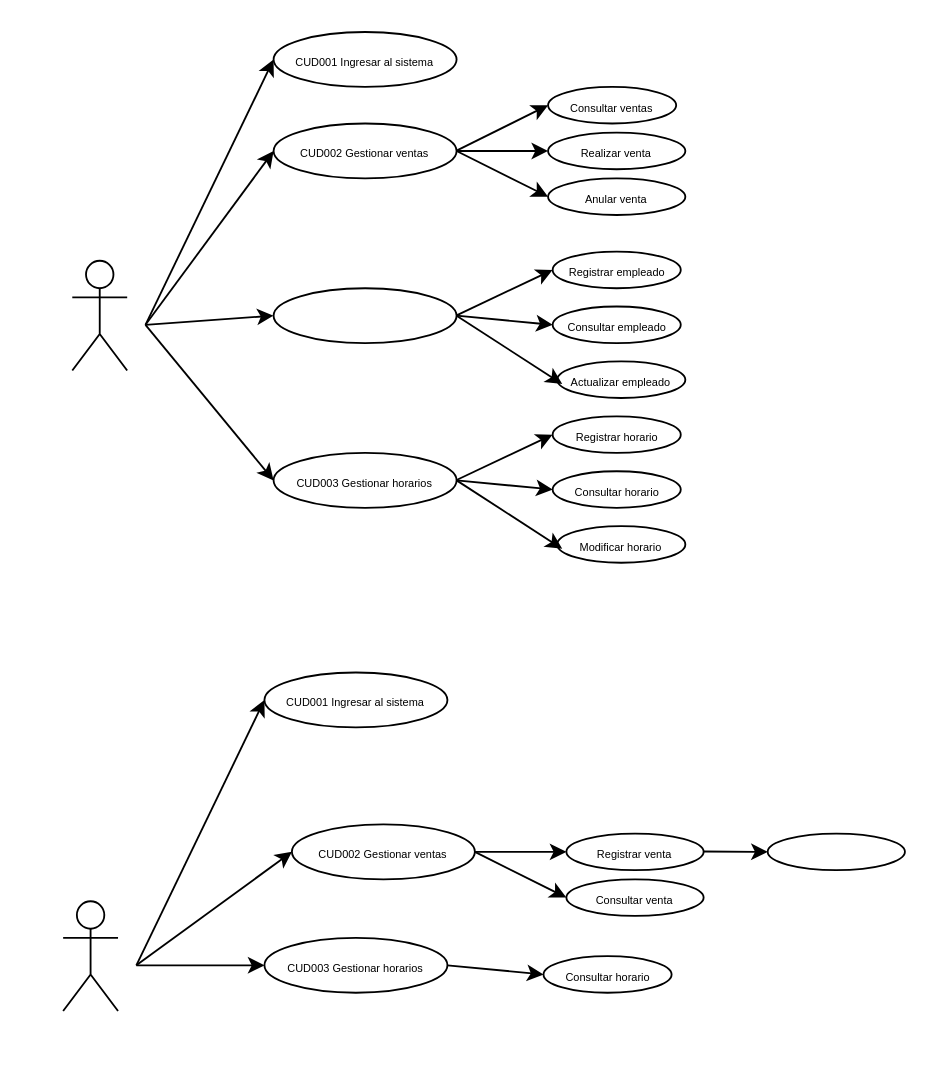
Image size: 937x1082. Some labels were removed from this diagram. The shapes that lost their labels are listed below. From the top down, each one's centre as x and y in pixels, then its label:
At pixel 98 315: "Administrador".
At pixel 364 314: "CUD003 Gestionar empleados".
At pixel 835 851: "Verificar disponibilidad stock".
At pixel 89 955: "Empleado".
